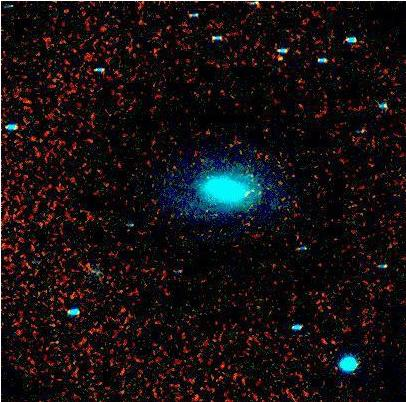star: (265, 43, 295, 73)
